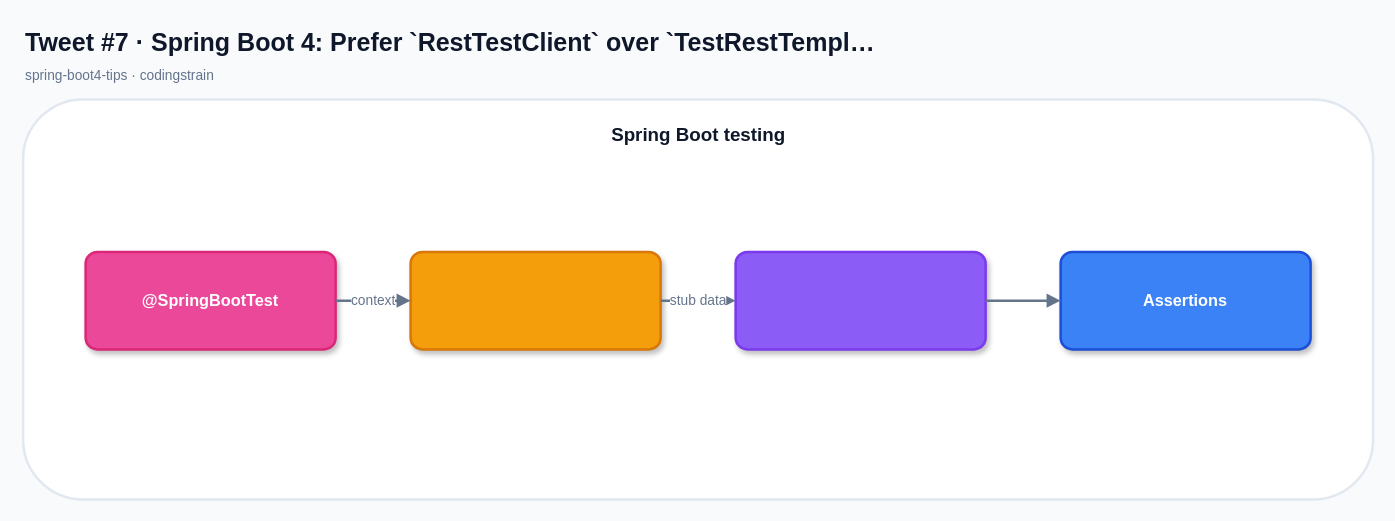
Image size: 1395x521. Some labels were removed from this diagram. The shapes that lost their labels are listed below. From the top down, each one's centre as x and y in pixels, then its label:
At point 536,302: "@MockBean / @Sql".
At point 861,302: "Component under test".
